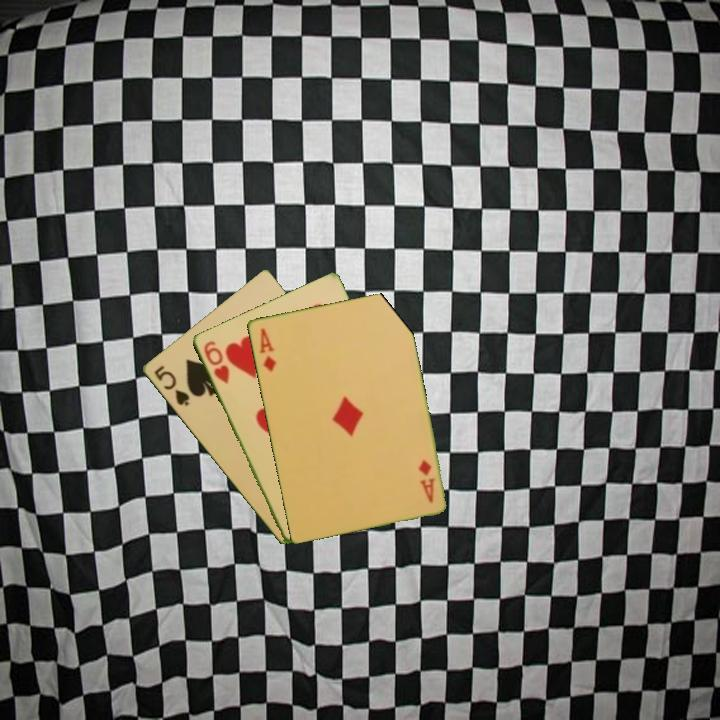5s: (150, 362, 192, 409)
6h: (200, 337, 232, 387)
Ad: (256, 324, 279, 374), (415, 456, 437, 505)
